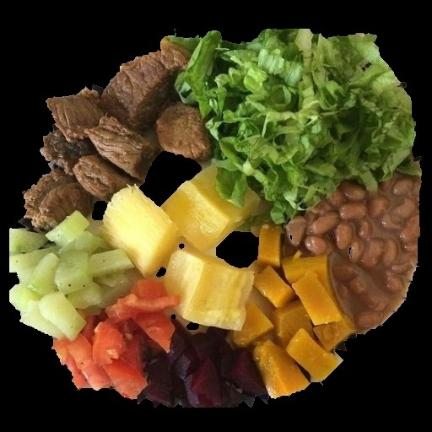beans: (285, 165, 419, 332)
beet: (138, 321, 267, 407)
carrot: (50, 277, 173, 398)
cassava: (101, 165, 261, 330)
green_vegetables: (6, 212, 141, 341)
meat: (24, 38, 215, 232)
salad: (173, 30, 416, 228)
